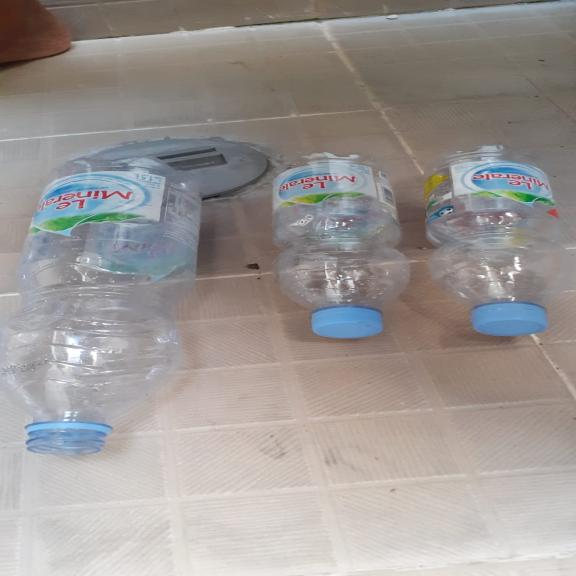Plastik: (11, 156, 219, 458), (258, 153, 427, 342), (436, 144, 564, 338)
